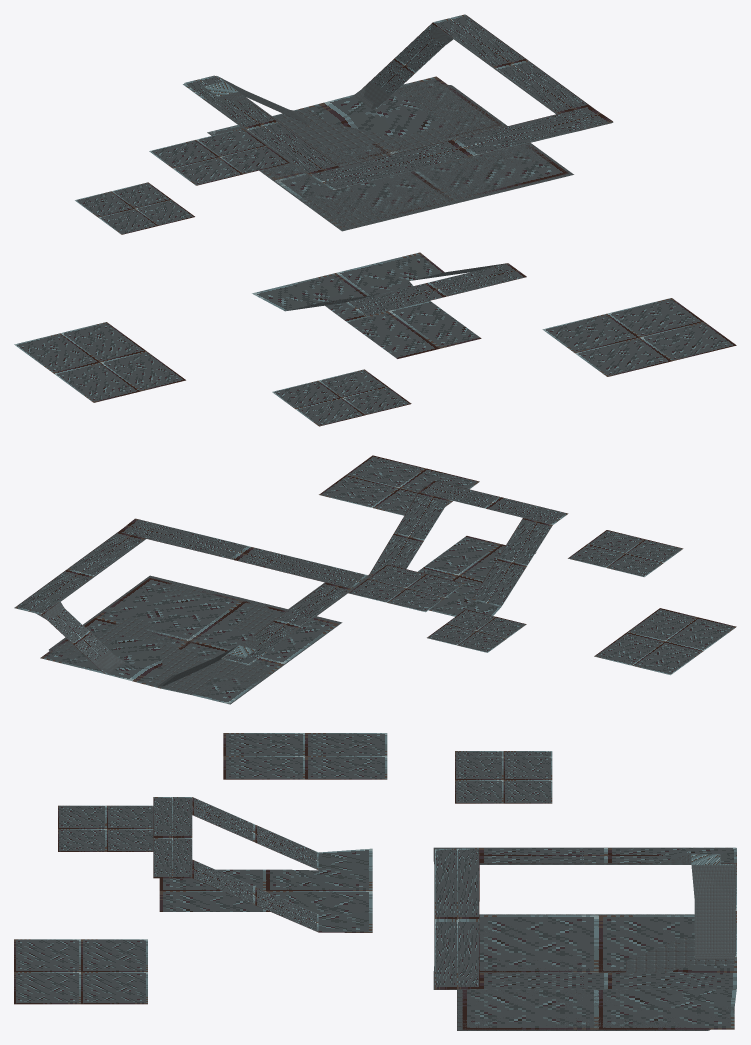
Rendered from enviornmentFinalNav.obj.
3 renders of one model, top to bottom at view 1: azimuth 30°, elevation 25°; view 2: azimuth 150°, elevation 25°; view 3: azimuth 270°, elevation 25°, orthographic. The views are drawn at different scales.
Parts seen in each view (by area): view 1: Plane.001, Plane.018, Plane.023, Plane.020, Plane.019, Plane.009, Plane.026, Plane.017; view 2: Plane.001, Plane.023, Plane.018, Plane.019, Plane.020, Plane.009, Plane.026, Plane.017; view 3: Plane.001, Plane.023, Plane.018, Plane.020, Plane.019, Plane.009, Plane.026, Plane.017.
Boxes of the visible parts, left/top/right/bottom form: Plane.001: left=184, top=14, right=612, bottom=228; Plane.018: left=183, top=15, right=613, bottom=231; Plane.023: left=252, top=252, right=526, bottom=358; Plane.020: left=542, top=298, right=736, bottom=376; Plane.019: left=14, top=322, right=185, bottom=402; Plane.009: left=149, top=128, right=289, bottom=185; Plane.026: left=272, top=369, right=411, bottom=426; Plane.017: left=75, top=182, right=194, bottom=234; Plane.001: left=15, top=518, right=367, bottom=703; Plane.023: left=368, top=481, right=568, bottom=616; Plane.018: left=14, top=530, right=370, bottom=704; Plane.019: left=594, top=608, right=736, bottom=675; Plane.020: left=319, top=455, right=479, bottom=515; Plane.009: left=348, top=564, right=464, bottom=612; Plane.026: left=568, top=530, right=683, bottom=577; Plane.017: left=427, top=609, right=526, bottom=652; Plane.001: left=435, top=848, right=736, bottom=1029; Plane.023: left=153, top=797, right=372, bottom=932; Plane.018: left=433, top=847, right=736, bottom=1030; Plane.020: left=14, top=939, right=147, bottom=1004; Plane.019: left=223, top=733, right=387, bottom=779; Plane.009: left=455, top=756, right=552, bottom=803; Plane.026: left=58, top=805, right=153, bottom=851; Plane.017: left=455, top=751, right=552, bottom=756.
Size of the model in its own units: 165 by 20.83 by 161.
